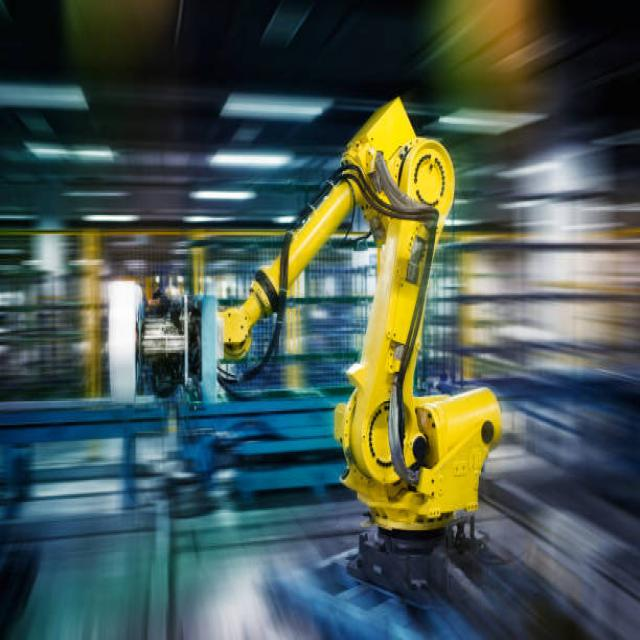Robotic-arm: (213, 90, 506, 555)
